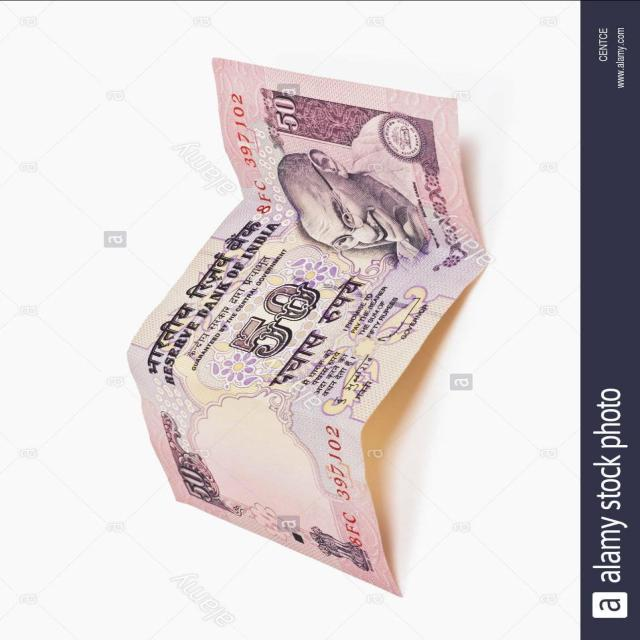50IndianRupees: (123, 60, 486, 599)
